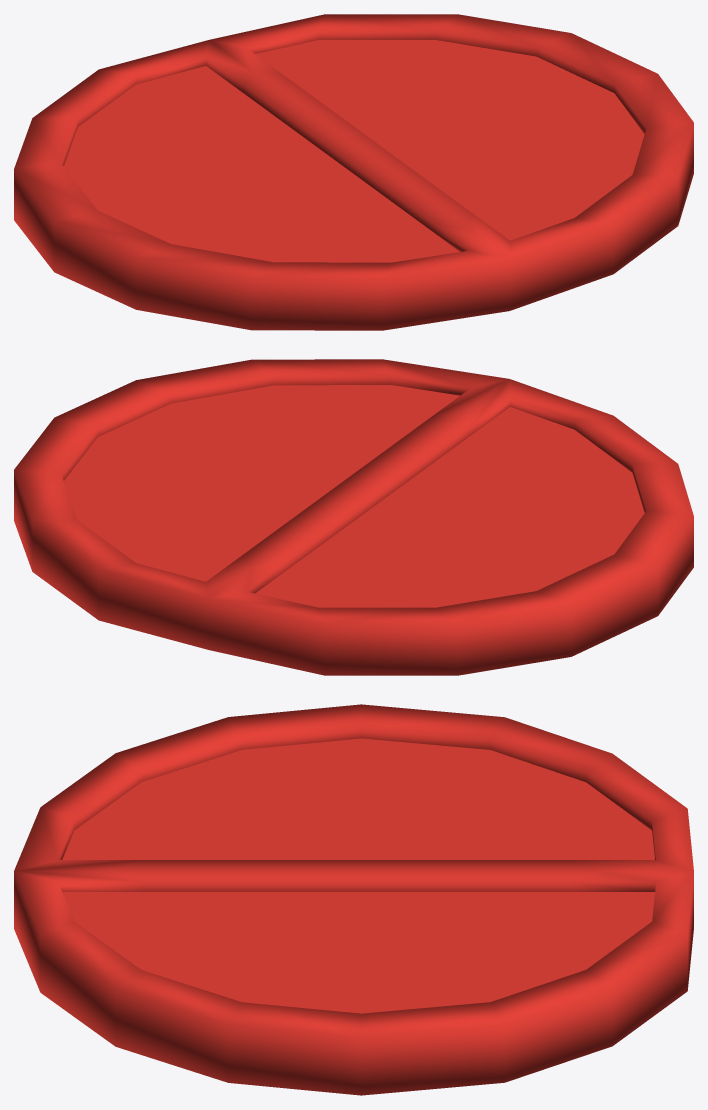
Rendered from Tomato slice.fbx.
3 renders of one model, top to bottom at view 1: azimuth 30°, elevation 25°; view 2: azimuth 150°, elevation 25°; view 3: azimuth 270°, elevation 25°, orthographic. The views are drawn at different scales.
Parts seen in each view (by area): view 1: Tomato slice; view 2: Tomato slice; view 3: Tomato slice.
Boxes of the visible parts, x1,y1,x2,y2 form: Tomato slice: [14, 14, 693, 330]; Tomato slice: [14, 359, 693, 675]; Tomato slice: [14, 704, 693, 1095].
Bounding box in the file's own units: 0.1457 × 0.0118 × 0.1257.
